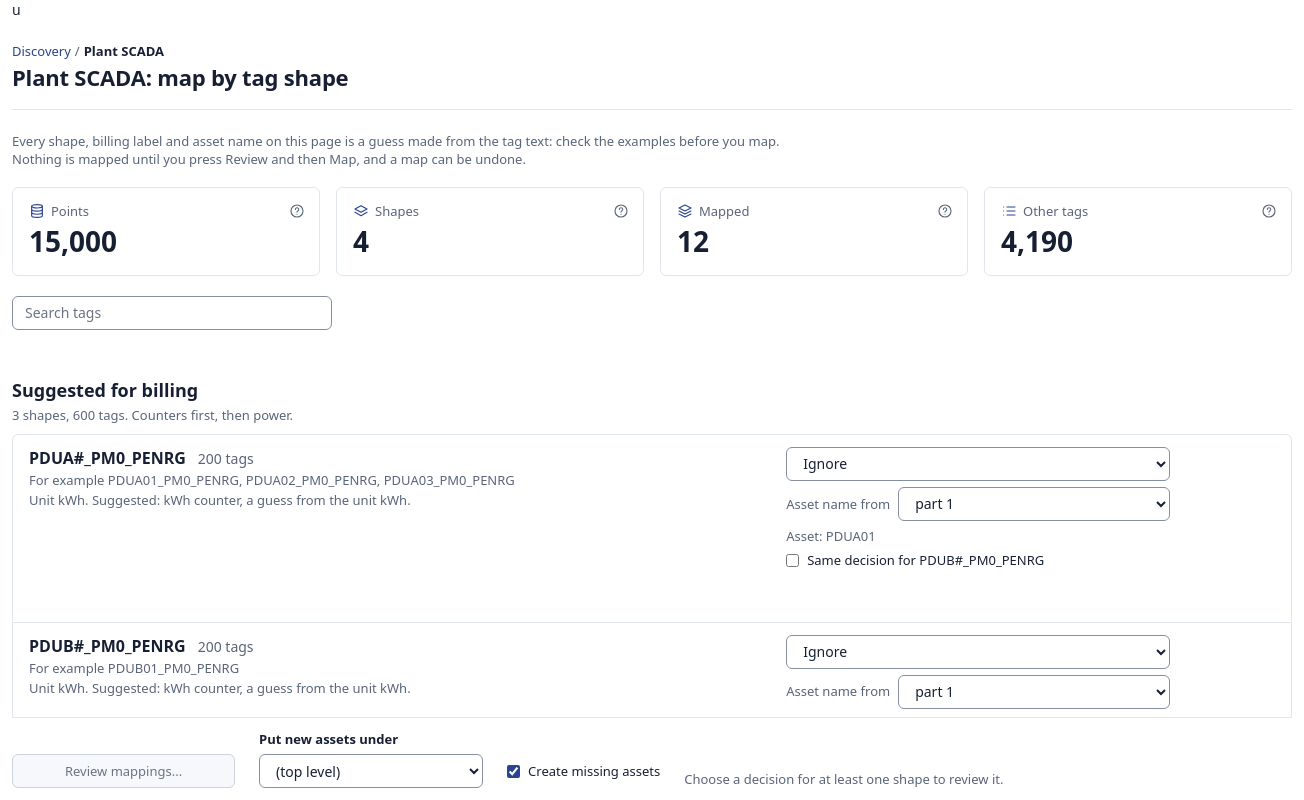
Test: SourceShapesPage: the search › opens the closed section when the match is a row in it
Check: the heading "Plant SCADA: map by tag shape" is shown, box [12,62,348,92]
Check: the element named "Shape PDUA#_PM0_PENRG" is shown, box [13,435,1291,623]
Type "VL1N" into the search field labelled "Search tags". click: [172, 313]
box: [12,296,332,330]
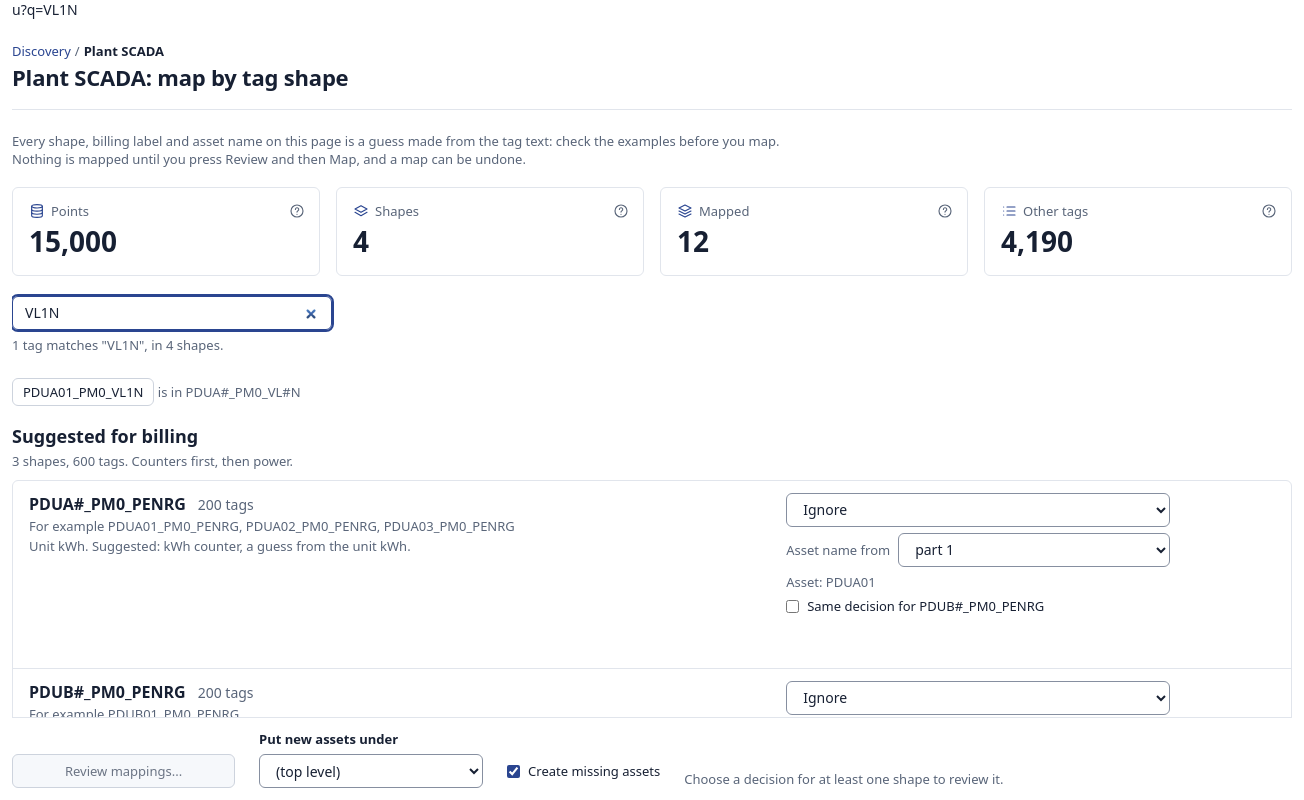
Click the button "PDUA01_PM0_VL1N". click: [83, 392]
box: [12,378,154,406]
(page scrolled)
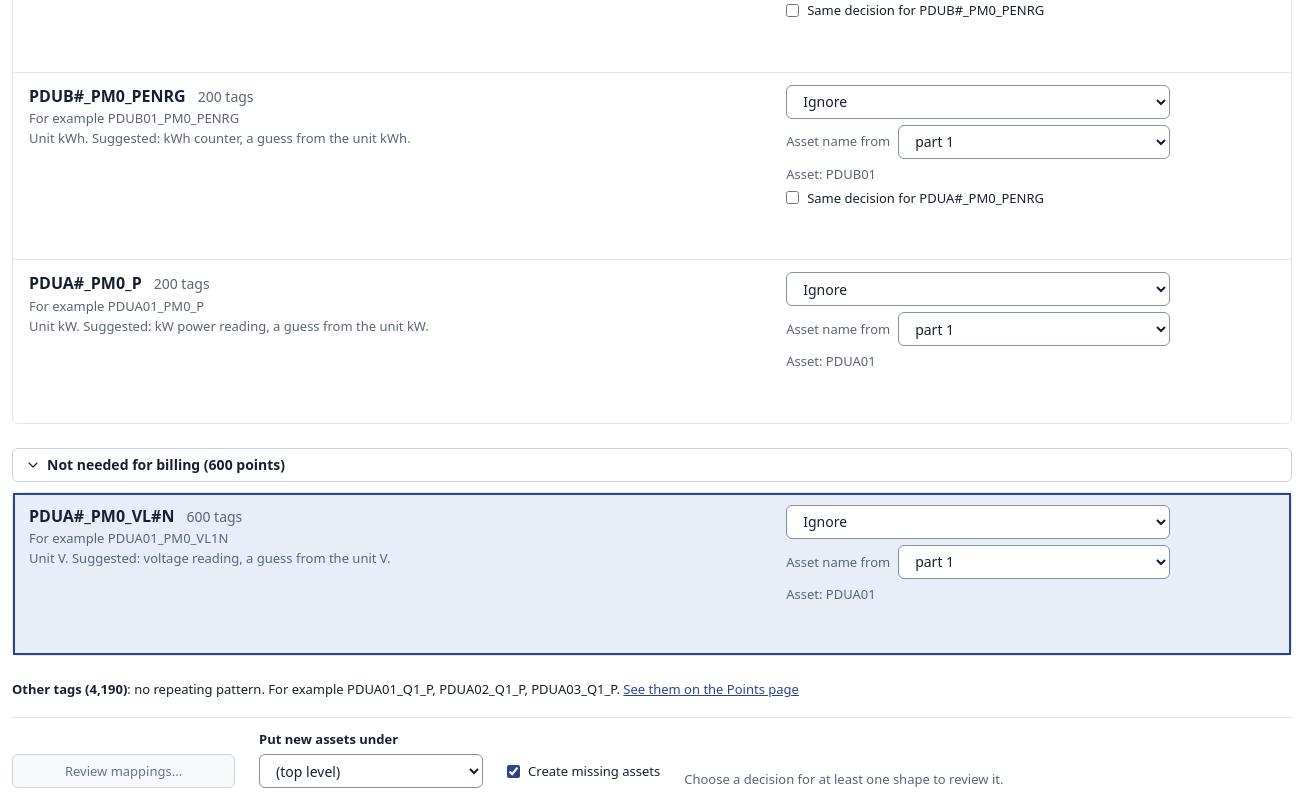
Check: the button "Not needed for billing (600 points)" is expanded, box [12,448,1292,482]
